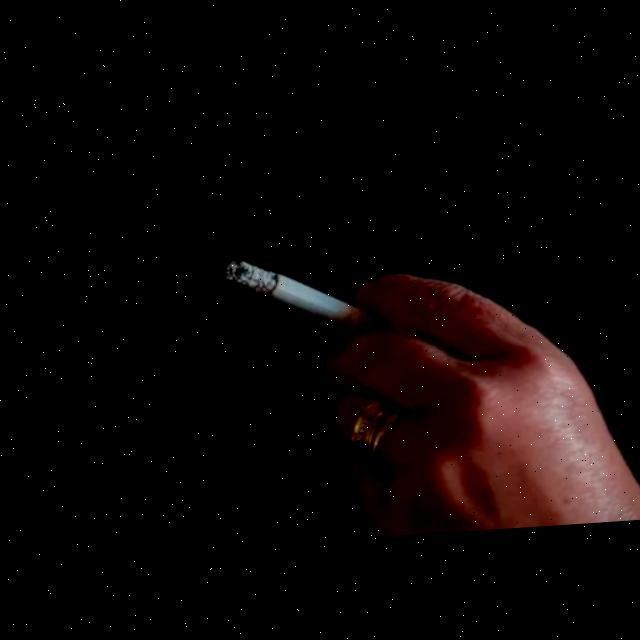cigarette: (221, 255, 358, 342)
